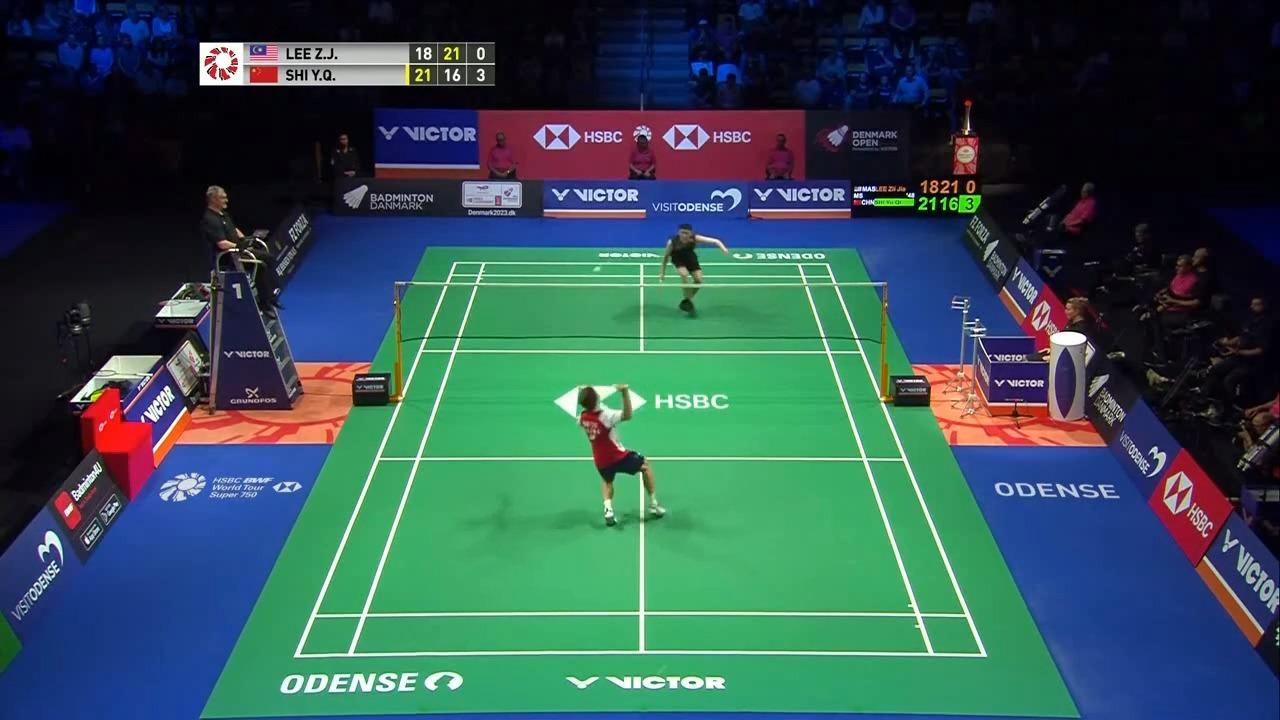shuttle: (593, 264, 604, 274)
